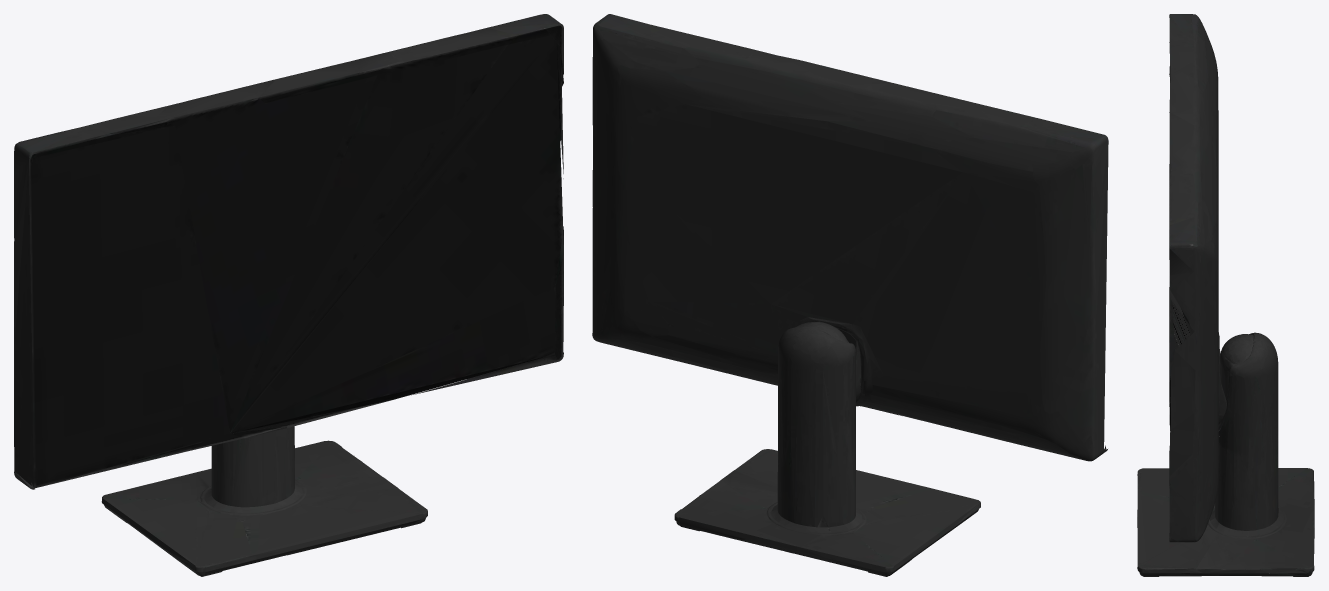
Rendered from monitor_black.glb.
3 views of the same model, side by side, from view 1: azimuth 30°, elevation 25°; view 2: azimuth 150°, elevation 25°; view 3: azimuth 270°, elevation 25° (orthographic). The views are drawn at different scales.
Visible parts, largest first — view 1: 0; view 2: 0; view 3: 0.
Boxes of the visible parts, x1,y1,x2,y2 form: 0: (14,14,563,576); 0: (592,14,1108,576); 0: (1137,14,1314,576).
Bounding box in the file's own units: 0.62 × 0.5 × 0.2.
1 material, 1 textured.
